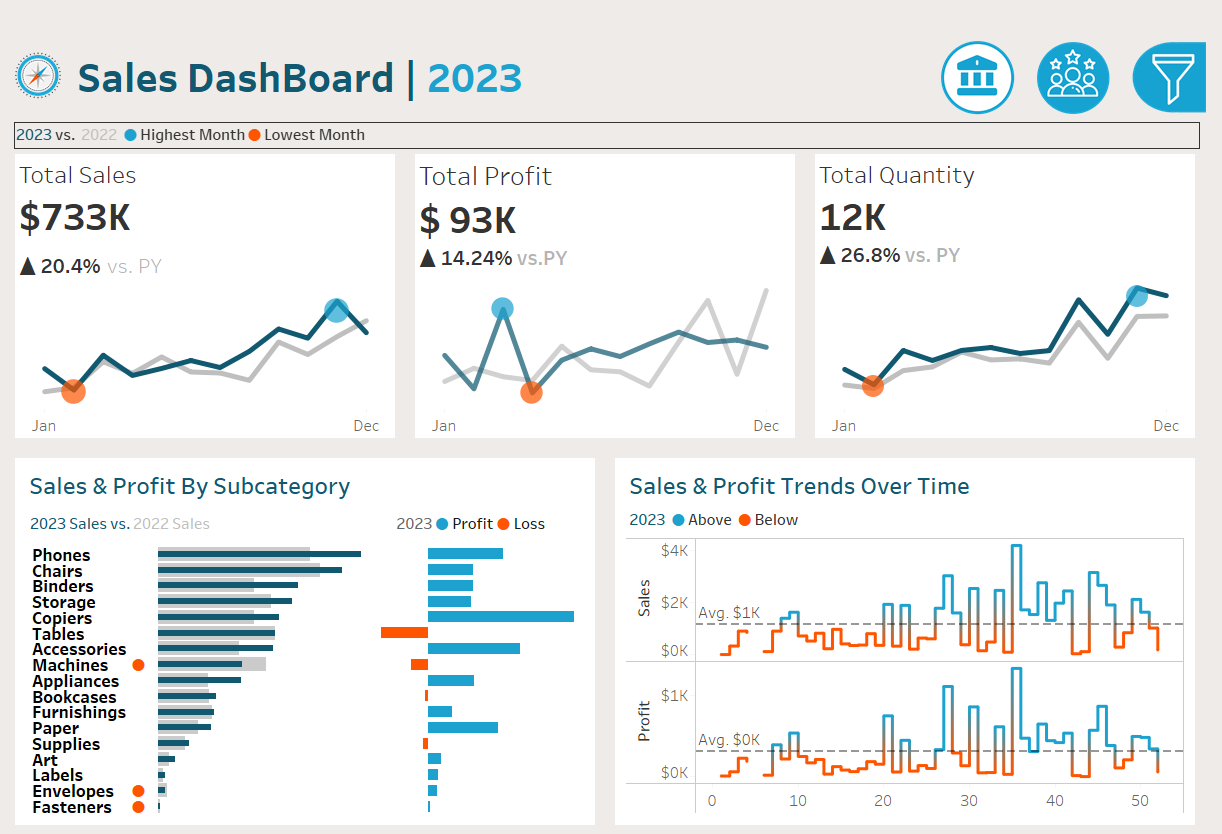

The dashboard page shown, as its layout file describes it:
{"tool":"tableau","page":{"name":"Sales Dashboard","canvas":[1200,800],"ordinal":1},"visuals":[{"type":"image","param":"Image/Icon - Logo.png","box":[0,0,65,81]},{"type":"text","box":[65,0,770,81]},{"type":"dashboard-object","box":[925,1,96,83]},{"type":"dashboard-object","box":[1021,1,95,83]},{"type":"blank","box":[910,10,278,100]},{"type":"worksheet","title":"Legends Of KPI","mark":"Automatic","box":[0,81,1200,38]},{"type":"text","box":[910,110,278,40]},{"type":"worksheet","title":"KPI Sales","mark":"Automatic","rows":["Calculation_182958747585425413"],"cols":["Order Date"],"box":[0,119,400,294]},{"type":"worksheet","title":"KPI Profit","mark":"Automatic","rows":["Calculation_182958747691335693"],"cols":["Order Date"],"box":[400,119,400,294]},{"type":"worksheet","title":"KPI Quantity","mark":"Automatic","rows":["Calculation_1259037583828611075"],"cols":["Order Date"],"box":[800,119,400,294]},{"type":"parameter","param":"[Parameters].[Parameter 1]","box":[910,150,278,53]},{"type":"text","box":[910,203,278,33]},{"type":"filter","title":"KPI Sales","param":"[federated.0188ps91u44wle14qe6sx1qiq9q4].[none:Category:nk]","box":[910,236,278,61]},{"type":"filter","title":"KPI Sales","param":"[federated.0188ps91u44wle14qe6sx1qiq9q4].[none:Sub-Category:nk]","box":[910,297,278,61]},{"type":"blank","box":[910,358,278,54]},{"type":"text","box":[910,412,278,33]},{"type":"text","box":[17,430,566,40]},{"type":"text","box":[617,430,566,40]},{"type":"filter","title":"KPI Sales","param":"[federated.0188ps91u44wle14qe6sx1qiq9q4].[none:Region:nk]","box":[910,445,278,61]},{"type":"worksheet","title":"Legends Of Subcategory","mark":"Automatic","box":[17,470,367,37]},{"type":"text","box":[384,470,199,37]},{"type":"text","box":[617,470,566,29]},{"type":"worksheet","title":"Weekly Trends","mark":"Automatic","rows":["Calculation_182958747521556480","Calculation_182958747678294026"],"cols":["Order Date"],"box":[617,499,566,284]},{"type":"filter","title":"KPI Sales","param":"[federated.0188ps91u44wle14qe6sx1qiq9q4].[none:State:nk]","box":[910,506,278,61]},{"type":"worksheet","title":"Subcategory Comparision","mark":"Bar","rows":["Sub-Category","Calculation_1259037583855968262"],"cols":["CY Sales (copy)_182958747522117633","Calculation_182958747521556480","Calculation_182958747678294026"],"box":[17,507,566,275.9]},{"type":"filter","title":"KPI Sales","param":"[federated.0188ps91u44wle14qe6sx1qiq9q4].[none:City:nk]","box":[910,567,278,61]}]}

Visuals, with their boxes in screenshot pixels (x1, y1, x2, y2), scaled from the page's 1200x800 canvas onto the 1222x834 screenshot:
image: region(0, 0, 66, 84)
text: region(66, 0, 850, 84)
dashboard-object: region(942, 1, 1040, 88)
dashboard-object: region(1040, 1, 1136, 88)
blank: region(927, 10, 1210, 115)
"Legends Of KPI" worksheet: region(0, 84, 1221, 124)
text: region(927, 115, 1210, 156)
"KPI Sales" worksheet: region(0, 124, 407, 431)
"KPI Profit" worksheet: region(407, 124, 815, 431)
"KPI Quantity" worksheet: region(815, 124, 1221, 431)
parameter: region(927, 156, 1210, 212)
text: region(927, 212, 1210, 246)
"KPI Sales" filter: region(927, 246, 1210, 310)
"KPI Sales" filter: region(927, 310, 1210, 373)
blank: region(927, 373, 1210, 430)
text: region(927, 430, 1210, 464)
text: region(17, 448, 594, 490)
text: region(628, 448, 1205, 490)
"KPI Sales" filter: region(927, 464, 1210, 528)
"Legends Of Subcategory" worksheet: region(17, 490, 391, 529)
text: region(391, 490, 594, 529)
text: region(628, 490, 1205, 520)
"Weekly Trends" worksheet: region(628, 520, 1205, 816)
"KPI Sales" filter: region(927, 528, 1210, 591)
"Subcategory Comparision" worksheet (Bar marks): region(17, 529, 594, 816)
"KPI Sales" filter: region(927, 591, 1210, 655)
